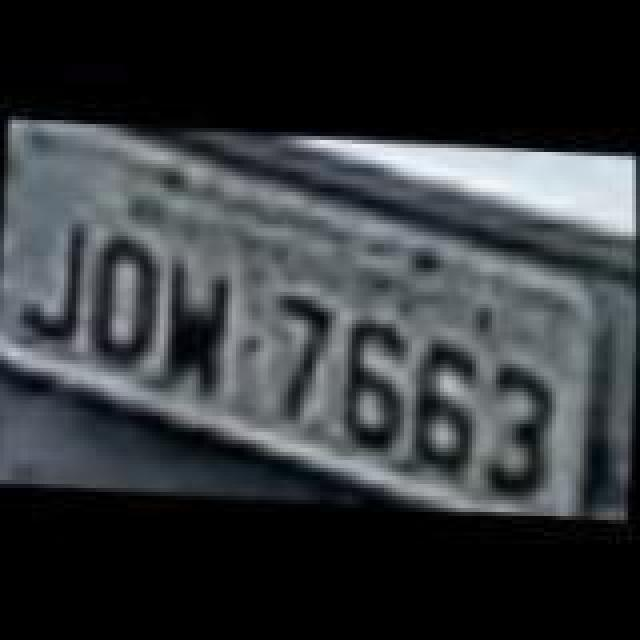3: (482, 362, 566, 502)
6: (336, 312, 416, 452), (406, 342, 490, 474)
7: (266, 292, 338, 432)
J: (14, 216, 94, 344)
O: (86, 236, 166, 372)
W: (158, 254, 238, 402)
